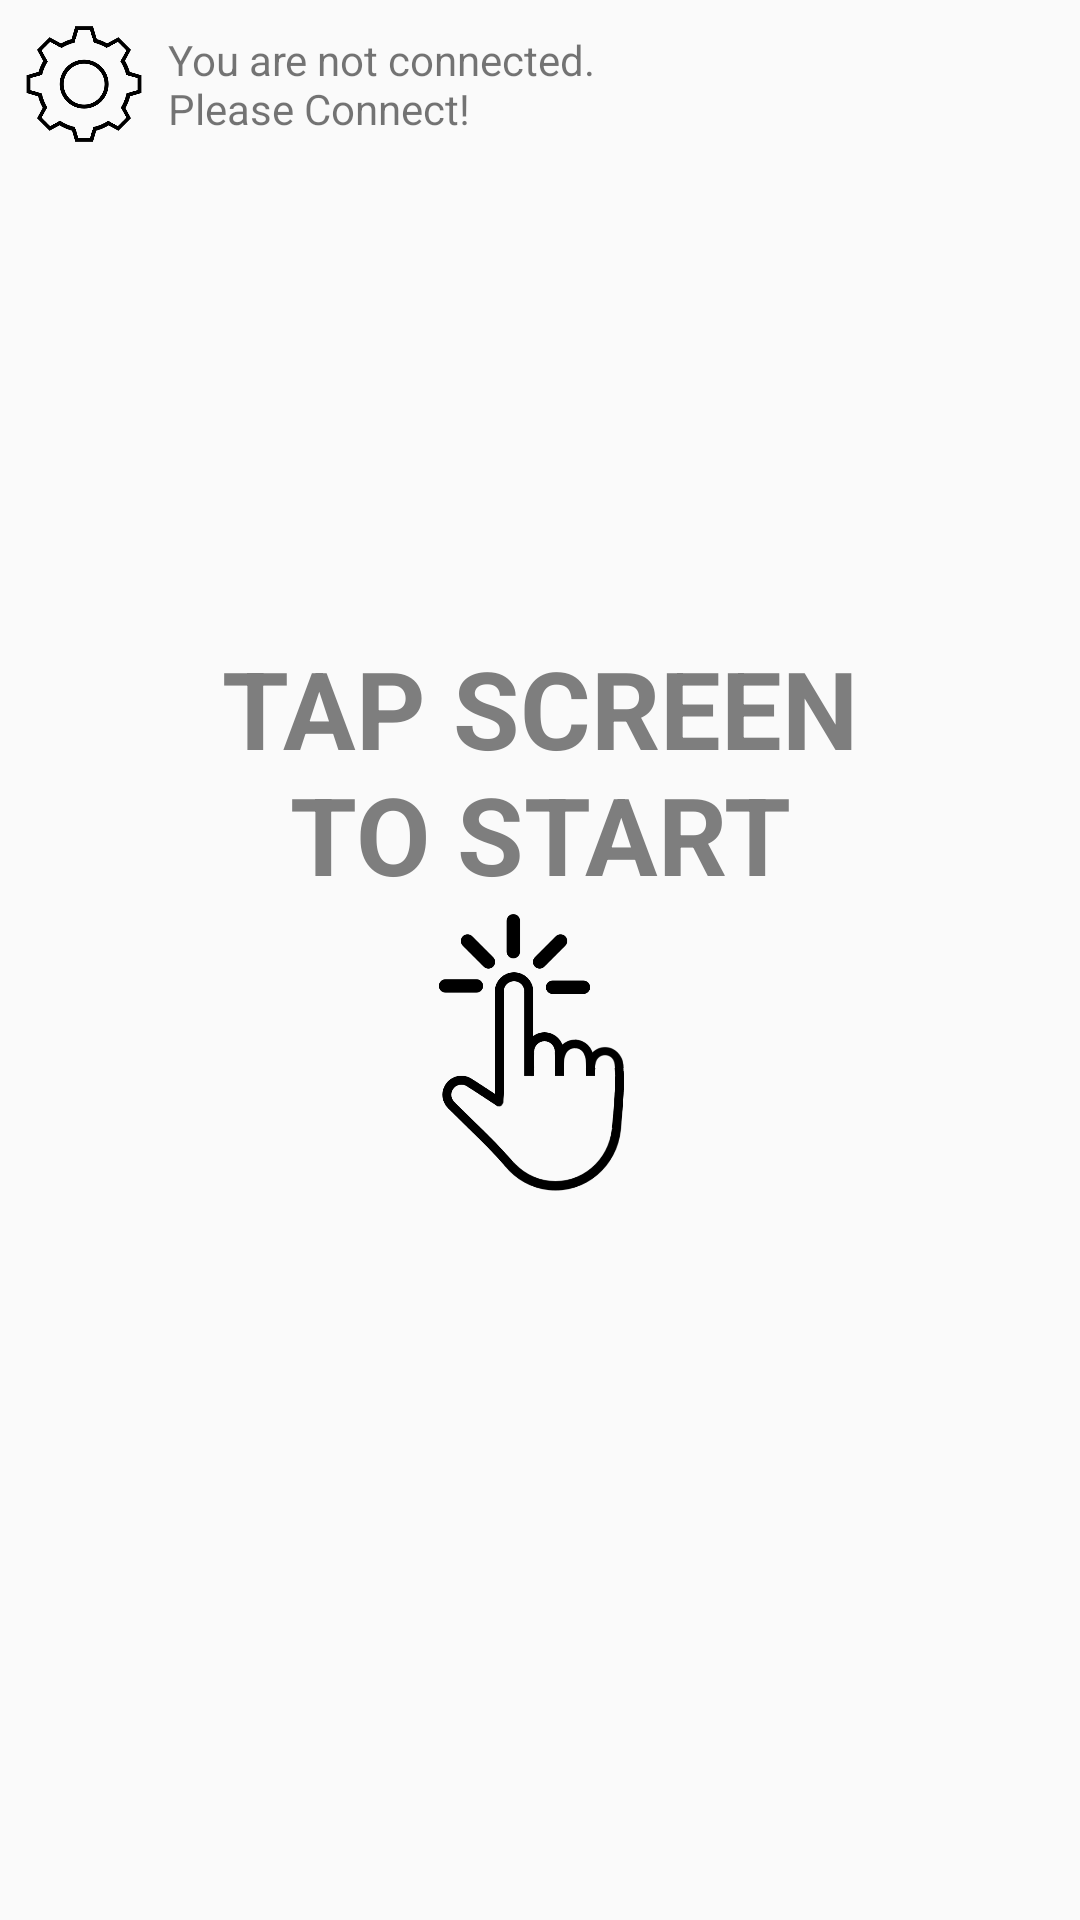

Screen size 1080 x 1920. Icon name, then its center in pixels as (x=x, y=y):
gear: (x=84, y=84)
Hand Clicking Image: (x=531, y=1052)
